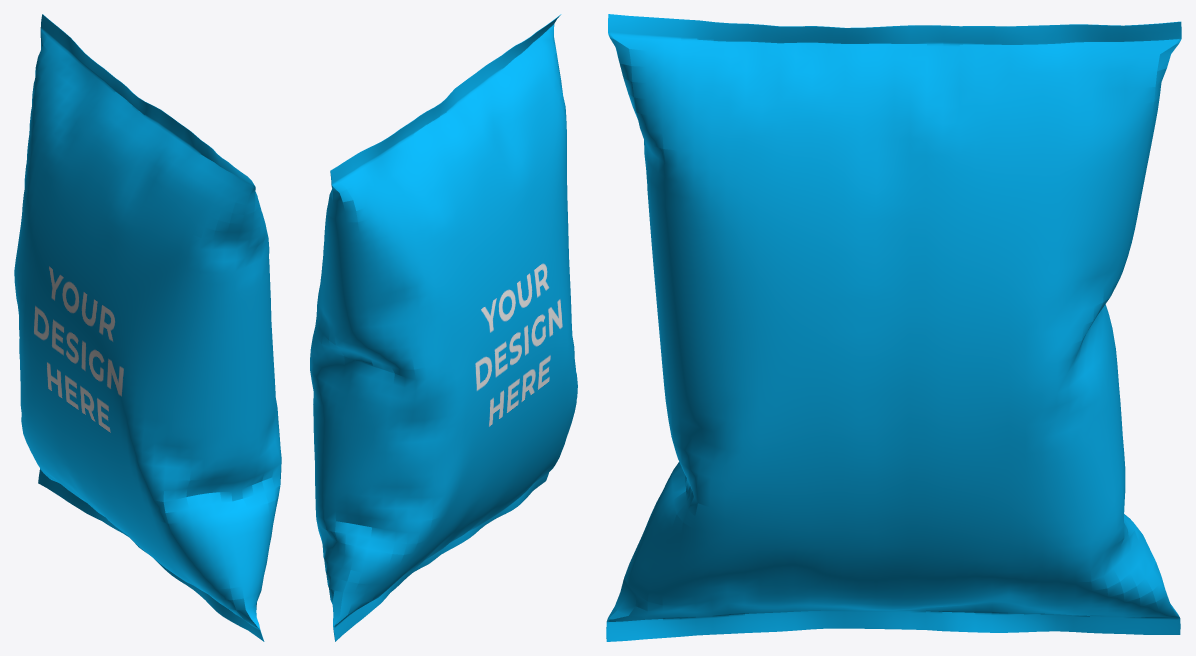
Rendered from Chips_Bag.glb.
3 renders of one model, left to right at view 1: azimuth 30°, elevation 25°; view 2: azimuth 150°, elevation 25°; view 3: azimuth 270°, elevation 25°, orthographic. The views are drawn at different scales.
Parts seen in each view (by area): view 1: Food_Packaging_02; view 2: Food_Packaging_02; view 3: Food_Packaging_02.
Part boxes in pixels (x1=…): Food_Packaging_02: x1=14, y1=14, x2=281, y2=641; Food_Packaging_02: x1=310, y1=14, x2=577, y2=641; Food_Packaging_02: x1=606, y1=14, x2=1181, y2=641.
Bounding box in the file's own units: 12.26 × 36.78 × 31.02.
1 material, 1 textured.
